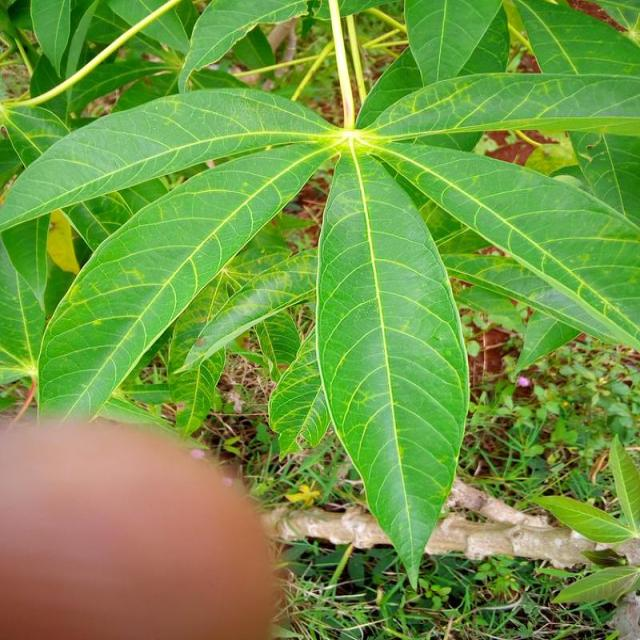cassava leaf: (1, 0, 638, 586), (35, 133, 338, 429), (313, 144, 470, 590)
